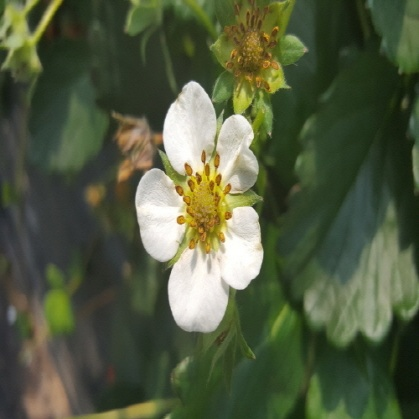Blossom_BT: (134, 0, 227, 96), (182, 147, 250, 258)
